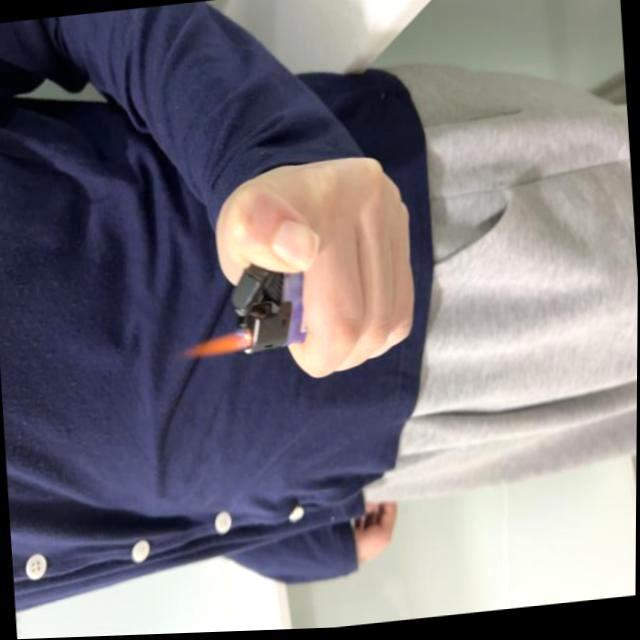fire: (180, 332, 252, 362)
